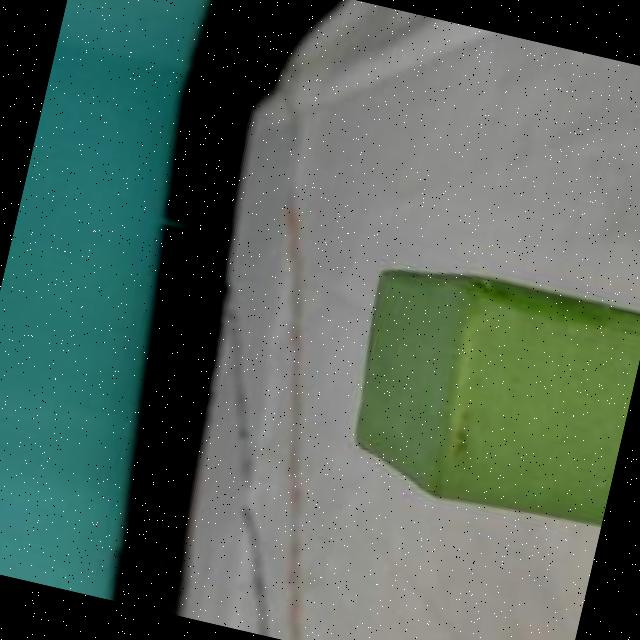greenbox: (331, 251, 640, 536)
